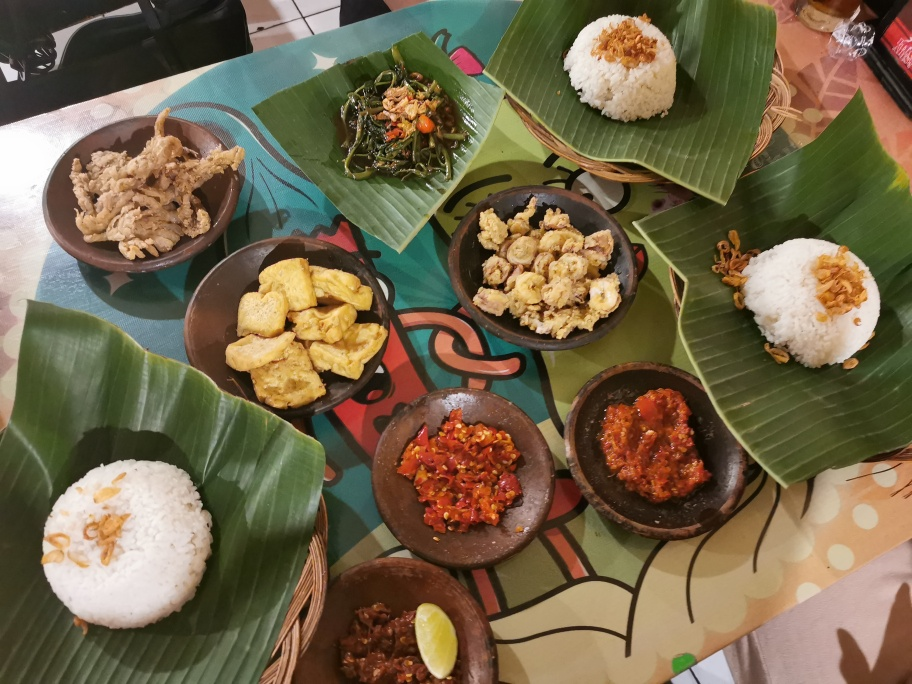nasi putih: (38, 458, 215, 637), (740, 235, 881, 369), (561, 9, 683, 125)
